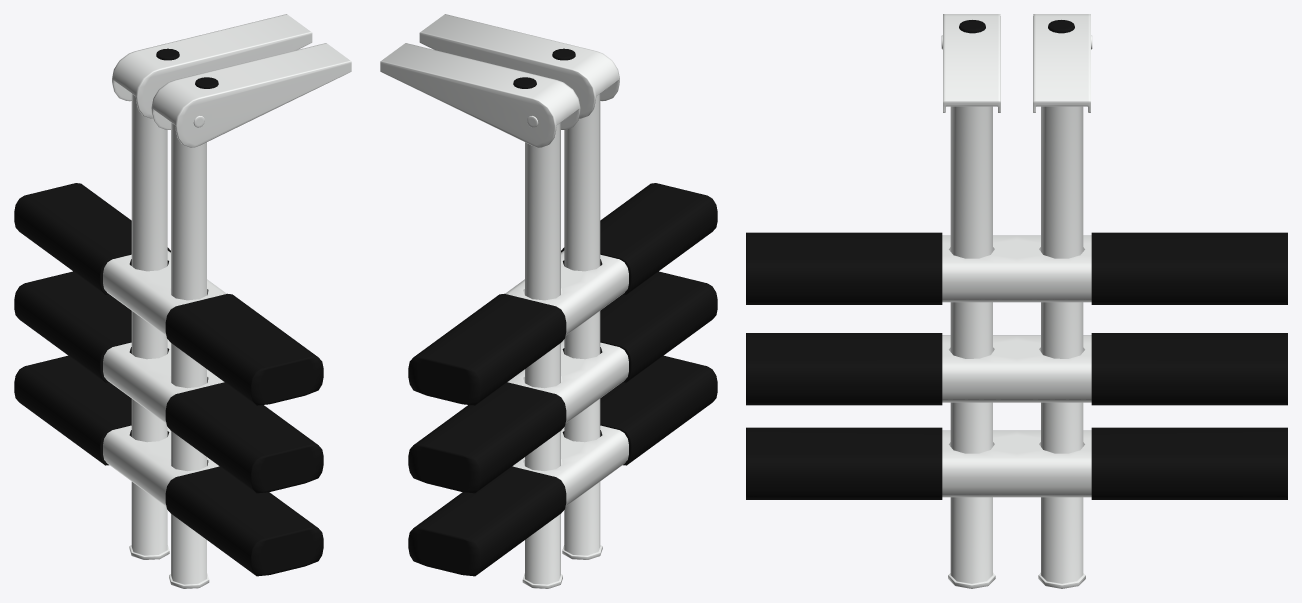
The model's file is telescopicLadder.glb.
3 views of the same model, side by side, from view 1: azimuth 30°, elevation 25°; view 2: azimuth 150°, elevation 25°; view 3: azimuth 270°, elevation 25° (orthographic). The views are drawn at different scales.
Parts seen in each view (by area): view 1: 330 holding rod1; view 2: 330 holding rod1; view 3: 330 holding rod1.
Part boxes in pixels (x1,y1,x2,y2): 330 holding rod1: (14,14,351,588); 330 holding rod1: (380,14,717,588); 330 holding rod1: (746,14,1287,588).
Bounding box in the file's own units: 0.2758 × 0.6983 × 0.6079.
Materials: 1 (1 with a texture image).
